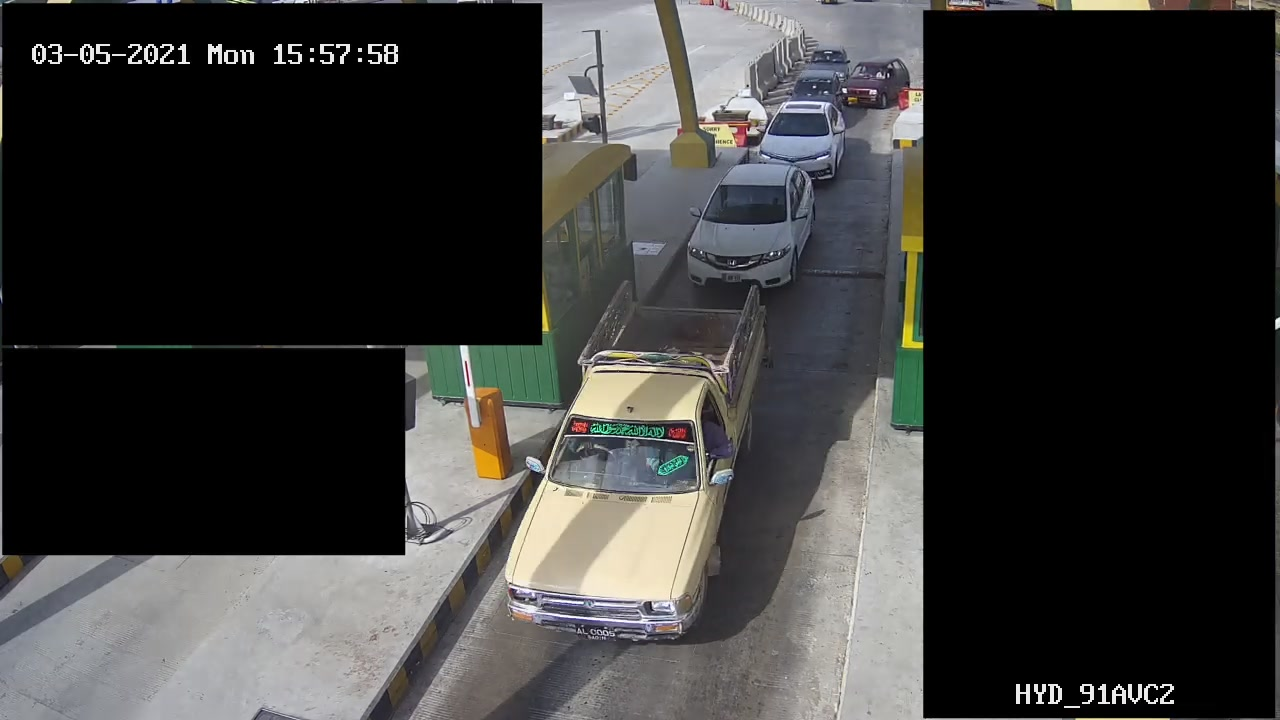F1: (494, 270, 771, 649)
